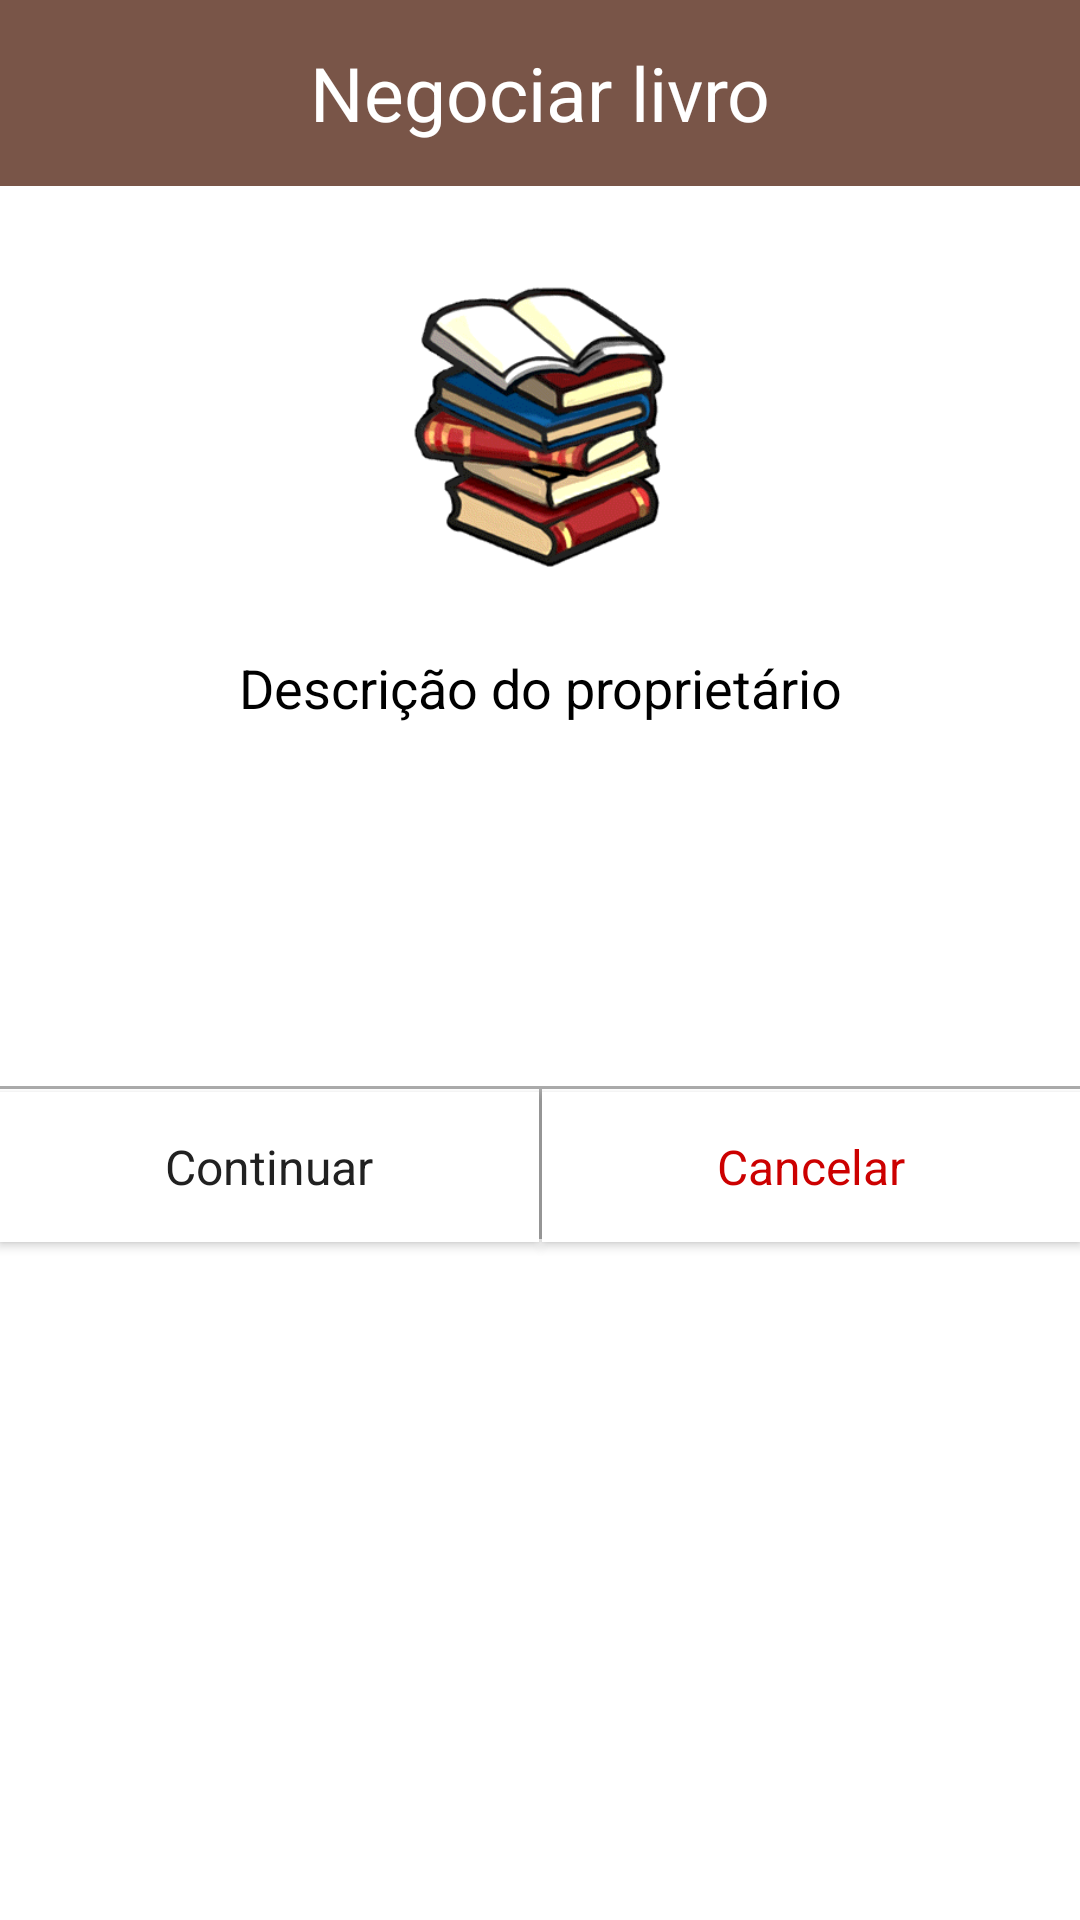

Where icons sit on this 1080*1920 app screen, as bbox=(x1, y1, x2, y2):
books render: bbox=(414, 287, 666, 567)
